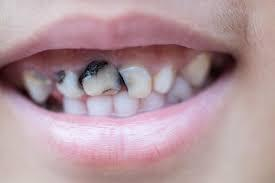cavity: (74, 57, 126, 98), (14, 66, 55, 104), (119, 59, 154, 101), (181, 51, 218, 88), (49, 66, 86, 100), (162, 73, 196, 105)
normal: (150, 61, 179, 97), (110, 89, 140, 116), (58, 96, 89, 119), (85, 96, 114, 117), (140, 91, 168, 112)
